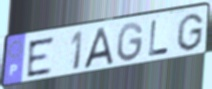1: (69, 29, 84, 74)
A: (83, 25, 115, 71)
E: (26, 34, 56, 79)
G: (116, 21, 145, 64), (175, 12, 205, 53)
L: (148, 19, 170, 58)
